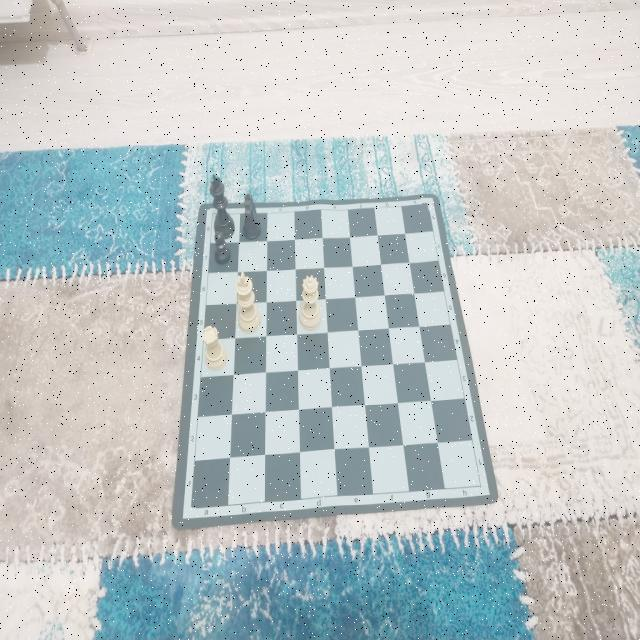corner: (202, 204, 222, 225), (422, 198, 434, 212), (186, 502, 196, 516), (475, 480, 486, 492)
